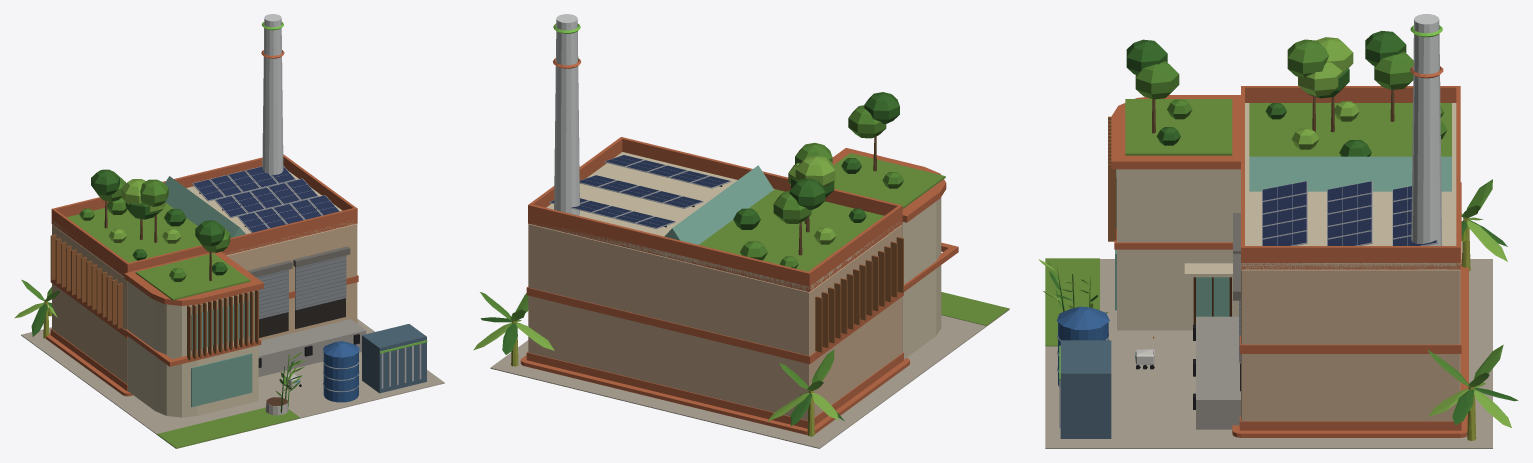
File: factory_3.glb
3 renders of one model, left to right at view 1: azimuth 30°, elevation 25°; view 2: azimuth 150°, elevation 25°; view 3: azimuth 270°, elevation 25°, orthographic. The views are drawn at different scales.
Visible parts, largest first — view 1: body, windows; view 2: body; view 3: body.
Part boxes in pixels (box(x1,y1,x2,y2)): body: box(14, 14, 444, 448); windows: box(259, 22, 427, 383); body: box(473, 14, 1009, 448); body: box(1038, 14, 1518, 448).
Size of the model in its own units: 17.81 by 15.76 by 17.08.
